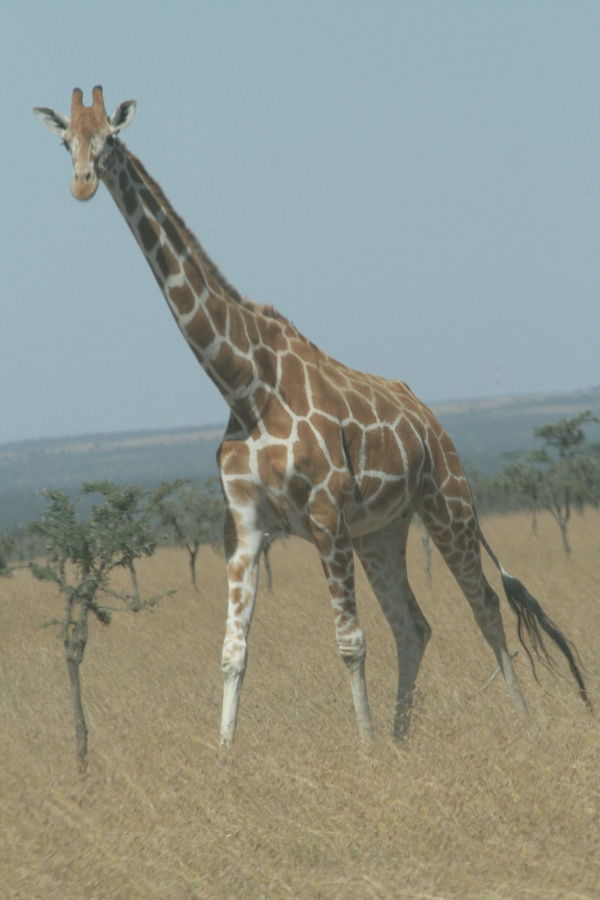giraffe: (28, 74, 546, 768)
